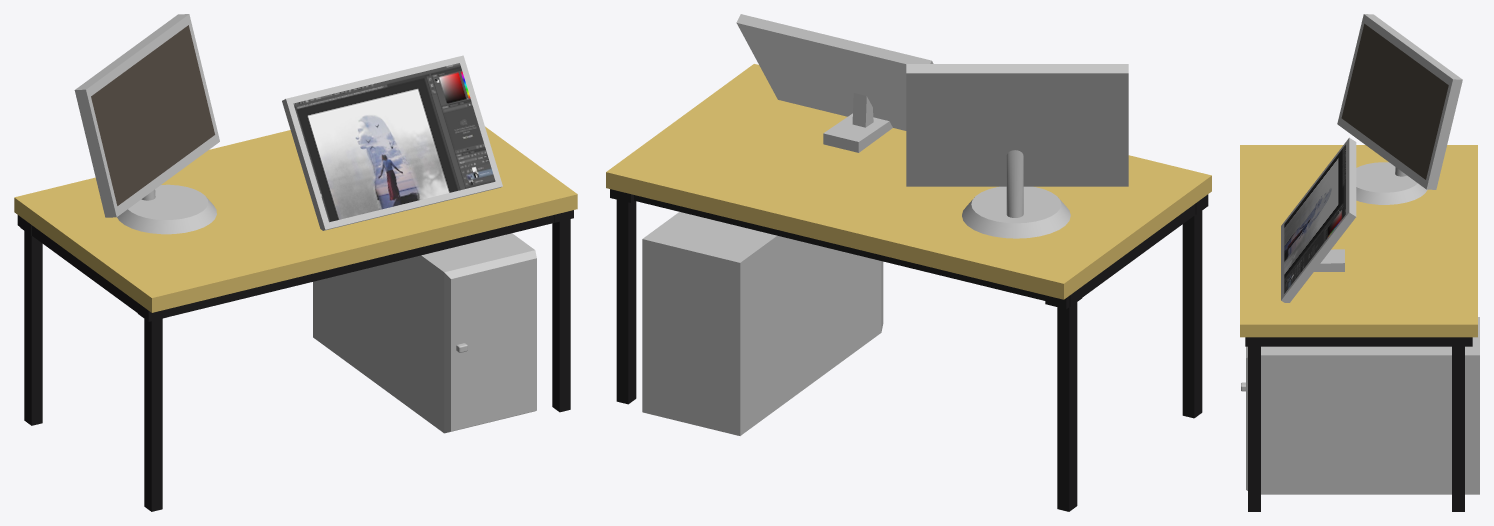
File: table.fbx
3 views of the same model, side by side, from view 1: azimuth 30°, elevation 25°; view 2: azimuth 150°, elevation 25°; view 3: azimuth 270°, elevation 25° (orthographic). The views are drawn at different scales.
Parts seen in each view (by area): view 1: Box030, Box043, Box040, Object013; view 2: Box030, Box043, Object013, Box040; view 3: Box030, Box043, Object013, Box040.
Boxes of the visible parts, box(x1,y1,x2,y2) form: Box030: box(14, 126, 577, 511); Box043: box(313, 233, 536, 433); Box040: box(282, 55, 502, 230); Object013: box(74, 14, 219, 234); Box030: box(606, 64, 1211, 511); Box043: box(642, 212, 883, 435); Object013: box(906, 64, 1128, 238); Box040: box(736, 14, 933, 152); Box030: box(1240, 145, 1477, 511); Box043: box(1241, 317, 1479, 494); Object013: box(1337, 14, 1462, 204); Box040: box(1281, 137, 1356, 302).
Bounding box in the file's own units: 152 × 127 × 85.75.
